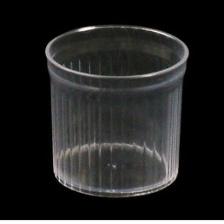glass: (36, 17, 193, 204)
